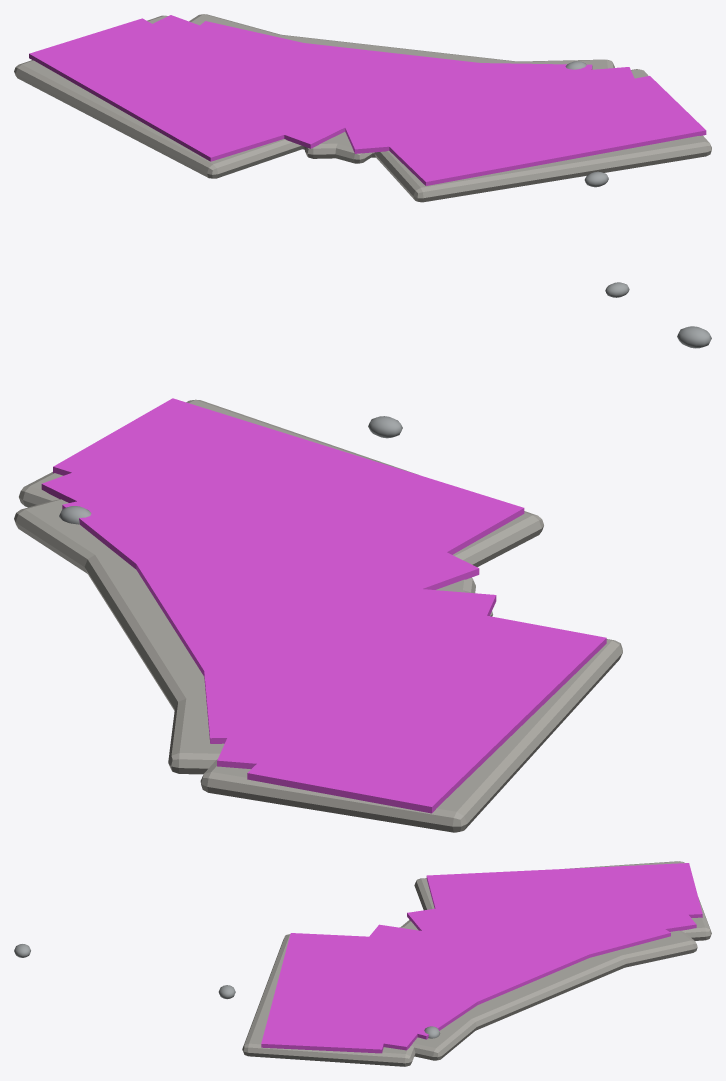
Rendered from forest_path_gravel_curve_lod1_v1.glb.
3 renders of one model, top to bottom at view 1: azimuth 30°, elevation 25°; view 2: azimuth 150°, elevation 25°; view 3: azimuth 270°, elevation 25°, orthographic. The views are drawn at different scales.
Visible parts, largest first — view 1: NAV_MASK_FOREST_PATH_GRAVEL_CURVE_ARC_01, NAV_MASK_FOREST_PATH_GRAVEL_CURVE_ARC_06, NAV_MASK_FOREST_PATH_GRAVEL_CURVE_ARC_02, NAV_MASK_FOREST_PATH_GRAVEL_CURVE_ARC_05, NAV_MASK_FOREST_PATH_GRAVEL_CURVE_ARC_04, NAV_MASK_FOREST_PATH_GRAVEL_CURVE_ARC_07, LOD1_FOREST_PATH_GRAVEL_CURVE_Arc_01, NAV_MASK_FOREST_PATH_GRAVEL_CURVE_ARC_03, LOD1_FOREST_PATH_GRAVEL_CURVE_Arc_05, LOD1_FOREST_PATH_GRAVEL_CURVE_Arc_03, LOD1_FOREST_PATH_GRAVEL_CURVE_Arc_02, LOD1_FOREST_PATH_GRAVEL_CURVE_Arc_04; view 2: NAV_MASK_FOREST_PATH_GRAVEL_CURVE_ARC_07, NAV_MASK_FOREST_PATH_GRAVEL_CURVE_ARC_01, NAV_MASK_FOREST_PATH_GRAVEL_CURVE_ARC_03, NAV_MASK_FOREST_PATH_GRAVEL_CURVE_ARC_04, NAV_MASK_FOREST_PATH_GRAVEL_CURVE_ARC_02, NAV_MASK_FOREST_PATH_GRAVEL_CURVE_ARC_06, NAV_MASK_FOREST_PATH_GRAVEL_CURVE_ARC_05, LOD1_FOREST_PATH_GRAVEL_CURVE_Arc_05, LOD1_FOREST_PATH_GRAVEL_CURVE_Arc_03, LOD1_FOREST_PATH_GRAVEL_CURVE_Arc_04, LOD1_FOREST_PATH_GRAVEL_CURVE_Arc_01, LOD1_FOREST_PATH_GRAVEL_CURVE_Arc_02; view 3: NAV_MASK_FOREST_PATH_GRAVEL_CURVE_ARC_03, NAV_MASK_FOREST_PATH_GRAVEL_CURVE_ARC_01, NAV_MASK_FOREST_PATH_GRAVEL_CURVE_ARC_07, NAV_MASK_FOREST_PATH_GRAVEL_CURVE_ARC_05, NAV_MASK_FOREST_PATH_GRAVEL_CURVE_ARC_02, NAV_MASK_FOREST_PATH_GRAVEL_CURVE_ARC_06, NAV_MASK_FOREST_PATH_GRAVEL_CURVE_ARC_04, LOD1_FOREST_PATH_GRAVEL_CURVE_Arc_03, LOD1_FOREST_PATH_GRAVEL_CURVE_Arc_01, LOD1_FOREST_PATH_GRAVEL_CURVE_Arc_04, LOD1_FOREST_PATH_GRAVEL_CURVE_Arc_02, LOD1_FOREST_PATH_GRAVEL_CURVE_Arc_05.
Boxes of the visible parts, x1,y1,x2,y2 form: NAV_MASK_FOREST_PATH_GRAVEL_CURVE_ARC_01: (377,76,706,185); NAV_MASK_FOREST_PATH_GRAVEL_CURVE_ARC_06: (79,15,394,148); NAV_MASK_FOREST_PATH_GRAVEL_CURVE_ARC_02: (329,67,648,153); NAV_MASK_FOREST_PATH_GRAVEL_CURVE_ARC_05: (140,21,471,105); NAV_MASK_FOREST_PATH_GRAVEL_CURVE_ARC_04: (212,36,539,126); NAV_MASK_FOREST_PATH_GRAVEL_CURVE_ARC_07: (29,18,309,161); LOD1_FOREST_PATH_GRAVEL_CURVE_Arc_01: (374,69,711,202); NAV_MASK_FOREST_PATH_GRAVEL_CURVE_ARC_03: (283,60,592,122); LOD1_FOREST_PATH_GRAVEL_CURVE_Arc_05: (14,15,302,178); LOD1_FOREST_PATH_GRAVEL_CURVE_Arc_03: (257,32,534,63); LOD1_FOREST_PATH_GRAVEL_CURVE_Arc_02: (304,59,614,158); LOD1_FOREST_PATH_GRAVEL_CURVE_Arc_04: (189,14,372,163); NAV_MASK_FOREST_PATH_GRAVEL_CURVE_ARC_07: (247,604,606,813); NAV_MASK_FOREST_PATH_GRAVEL_CURVE_ARC_01: (53,398,524,572); NAV_MASK_FOREST_PATH_GRAVEL_CURVE_ARC_03: (62,465,443,667); NAV_MASK_FOREST_PATH_GRAVEL_CURVE_ARC_04: (116,506,420,706); NAV_MASK_FOREST_PATH_GRAVEL_CURVE_ARC_02: (41,428,479,623); NAV_MASK_FOREST_PATH_GRAVEL_CURVE_ARC_06: (217,585,496,776); NAV_MASK_FOREST_PATH_GRAVEL_CURVE_ARC_05: (194,550,411,743); LOD1_FOREST_PATH_GRAVEL_CURVE_Arc_05: (200,639,622,832); LOD1_FOREST_PATH_GRAVEL_CURVE_Arc_03: (84,546,207,715); LOD1_FOREST_PATH_GRAVEL_CURVE_Arc_04: (168,577,475,774); LOD1_FOREST_PATH_GRAVEL_CURVE_Arc_01: (19,399,543,567); LOD1_FOREST_PATH_GRAVEL_CURVE_Arc_02: (14,499,492,616); NAV_MASK_FOREST_PATH_GRAVEL_CURVE_ARC_03: (324,914,560,1039); NAV_MASK_FOREST_PATH_GRAVEL_CURVE_ARC_01: (261,933,410,1053); NAV_MASK_FOREST_PATH_GRAVEL_CURVE_ARC_07: (426,863,702,923); NAV_MASK_FOREST_PATH_GRAVEL_CURVE_ARC_05: (383,889,670,968); NAV_MASK_FOREST_PATH_GRAVEL_CURVE_ARC_02: (301,924,493,1050); NAV_MASK_FOREST_PATH_GRAVEL_CURVE_ARC_06: (407,876,696,946); NAV_MASK_FOREST_PATH_GRAVEL_CURVE_ARC_04: (354,902,609,1012); LOD1_FOREST_PATH_GRAVEL_CURVE_Arc_03: (449,946,637,1030); LOD1_FOREST_PATH_GRAVEL_CURVE_Arc_01: (242,934,415,1066); LOD1_FOREST_PATH_GRAVEL_CURVE_Arc_04: (399,925,697,967); LOD1_FOREST_PATH_GRAVEL_CURVE_Arc_02: (401,920,492,1060); LOD1_FOREST_PATH_GRAVEL_CURVE_Arc_05: (414,861,711,940).
Size of what is drawn, in the model's own units: 5.44 by 0.24 by 8.09.
